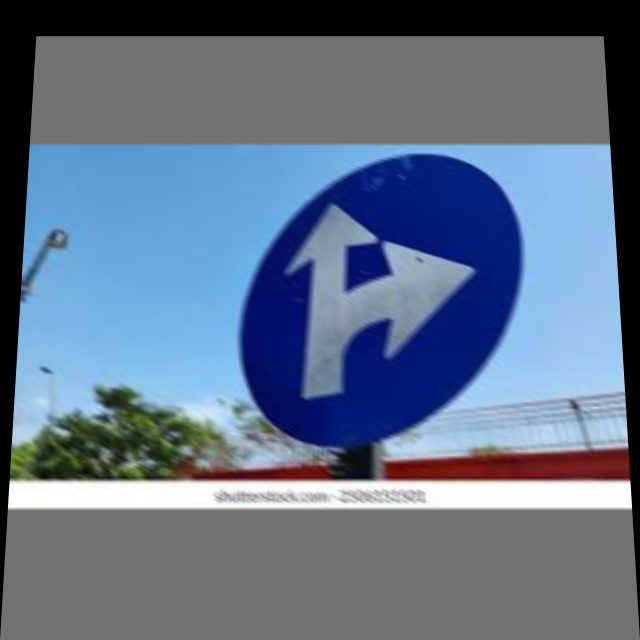Compulsory_Ahead_or_Turn_Right: (243, 164, 520, 453)
